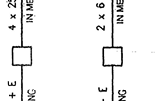Cable Termination Box: (95, 40, 134, 78), (6, 39, 45, 74)
